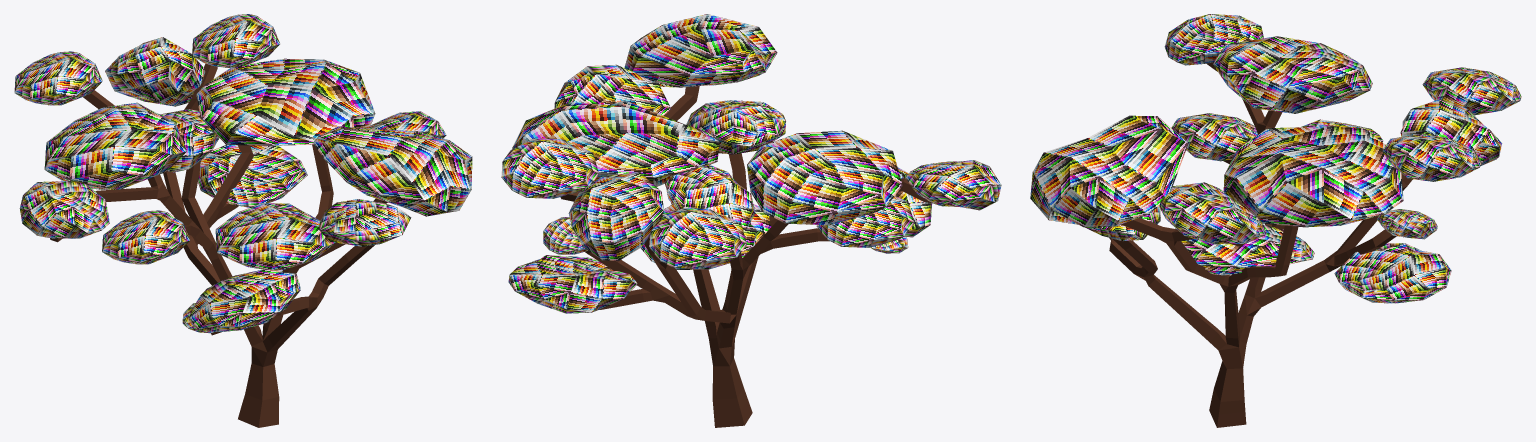
File: tree.glb
The picture shows the model from 3 angles, left to right: view 1: azimuth 30°, elevation 25°; view 2: azimuth 150°, elevation 25°; view 3: azimuth 270°, elevation 25°; orthographic projection. The views are drawn at different scales.
Visible parts, largest first — view 1: Foliage, TreeBase; view 2: Foliage, TreeBase; view 3: Foliage, TreeBase.
Part boxes in pixels (x1,y1,x2,y2): Foliage: [14, 14, 472, 333]; TreeBase: [50, 63, 387, 427]; Foliage: [501, 14, 1001, 313]; TreeBase: [560, 86, 931, 427]; Foliage: [1030, 14, 1521, 303]; TreeBase: [1109, 62, 1412, 427].
Bounding box in the file's own units: 9.47 × 6.92 × 9.51.
1 material, 1 textured.
